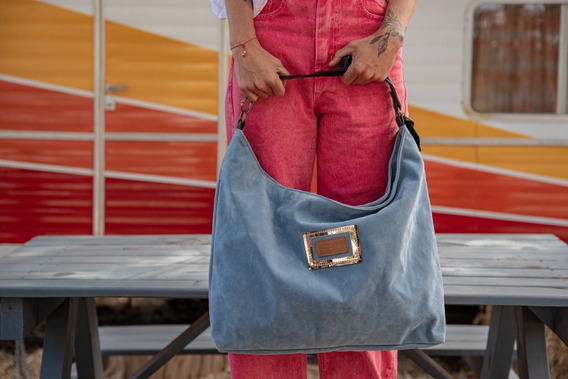cartera: (206, 66, 448, 354)
